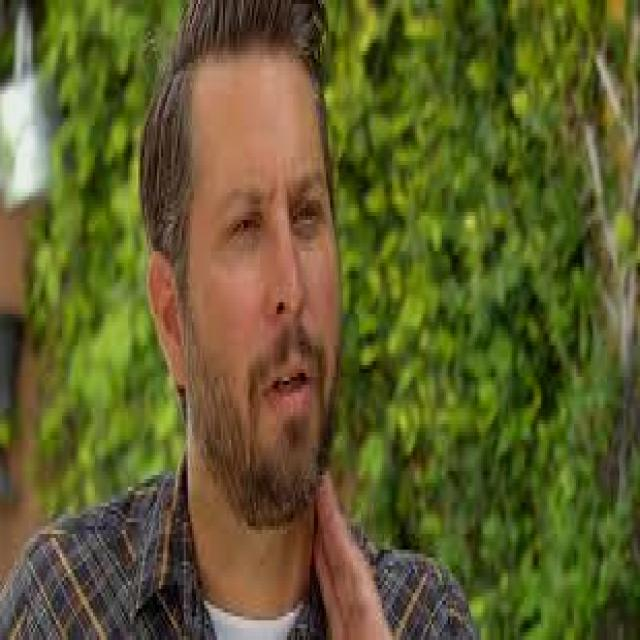normal_face: (154, 30, 340, 519)
